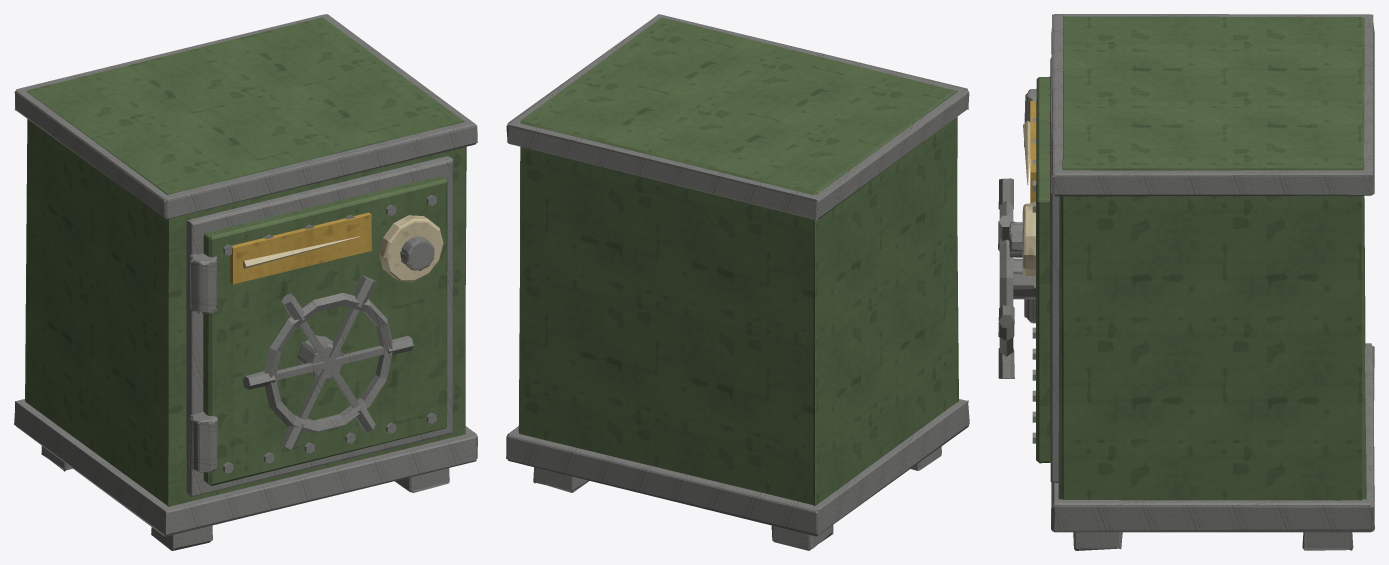
Rendered from needle_vault.glb.
3 renders of one model, left to right at view 1: azimuth 30°, elevation 25°; view 2: azimuth 150°, elevation 25°; view 3: azimuth 270°, elevation 25°, orthographic. The views are drawn at different scales.
Visible parts, largest first — view 1: NeedleVault; view 2: NeedleVault; view 3: NeedleVault.
Part boxes in pixels (x1=…): NeedleVault: x1=14, y1=14, x2=477, y2=550; NeedleVault: x1=506, y1=14, x2=969, y2=550; NeedleVault: x1=998, y1=14, x2=1374, y2=550.
Bounding box in the file's own units: 1.77 × 1.98 × 1.74.
4 materials, 4 textured.
